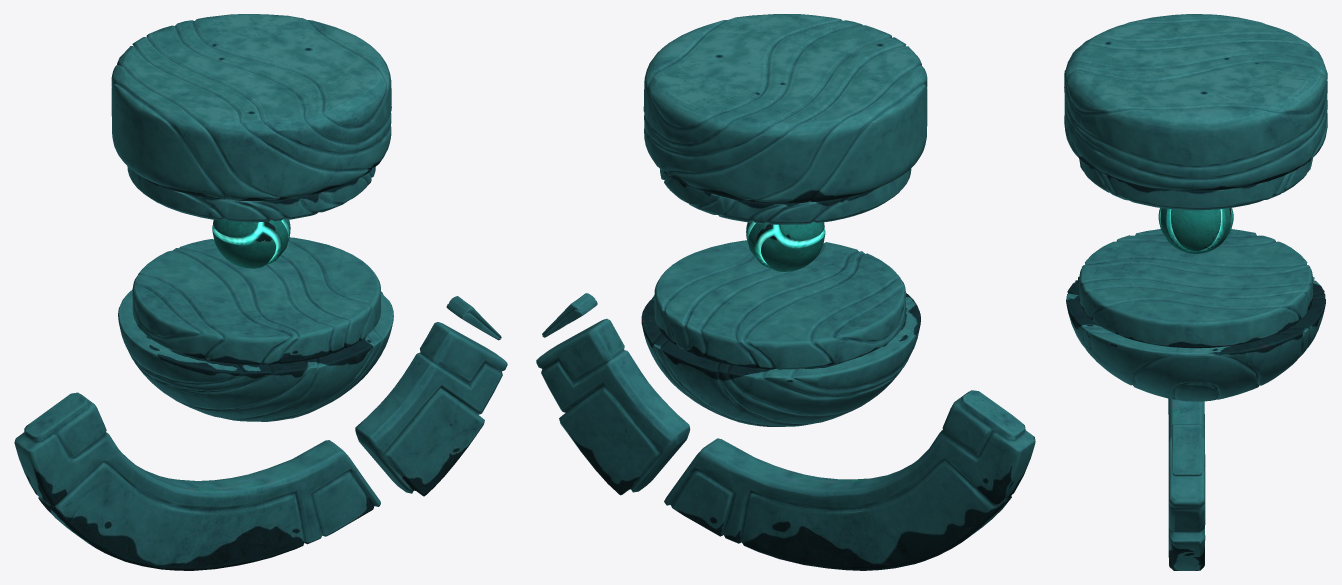
File: sky_shrine_d_soma.glb
3 views of the same model, side by side, from view 1: azimuth 30°, elevation 25°; view 2: azimuth 150°, elevation 25°; view 3: azimuth 270°, elevation 25° (orthographic). The views are drawn at different scales.
Parts seen in each view (by area): view 1: shrine_d; view 2: shrine_d; view 3: shrine_d.
Part boxes in pixels (x1,y1,x2,y2): shrine_d: (14,14,507,570); shrine_d: (536,14,1035,570); shrine_d: (1064,14,1327,570).
Bounding box in the file's own units: 3.73 × 3.59 × 1.89.
1 material, 1 textured.
